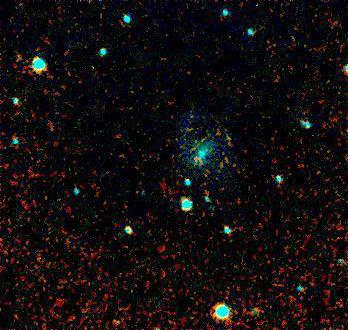star: (211, 123, 241, 153)
